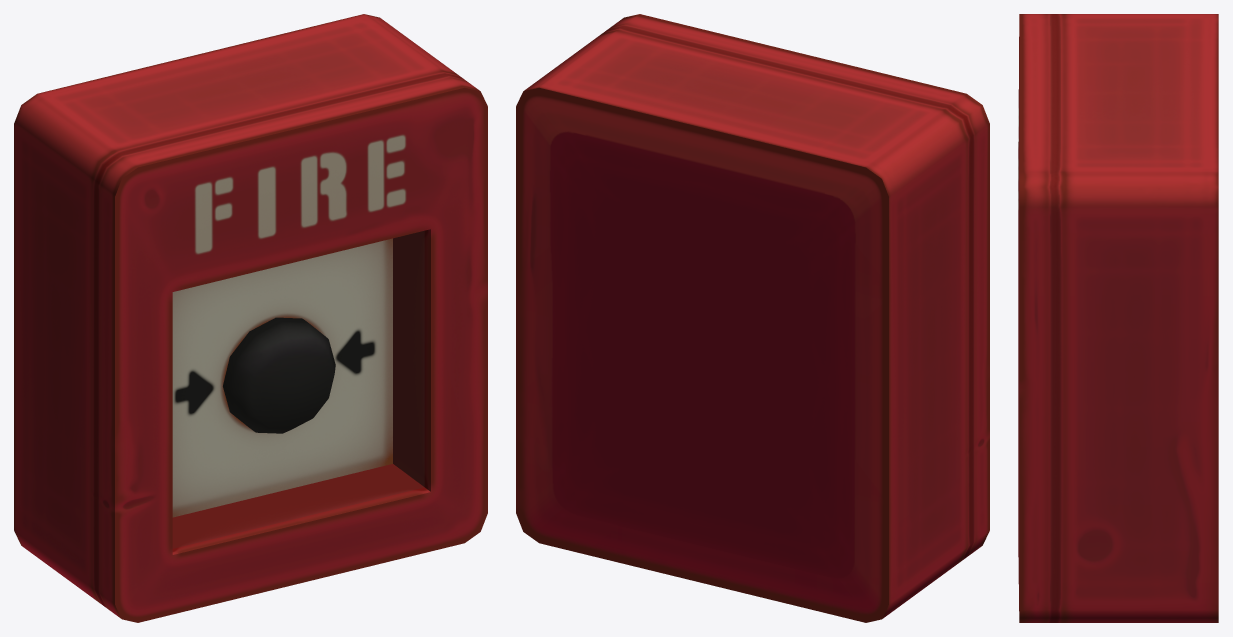
Rendered from alarm_point.glb.
The picture shows the model from 3 angles, left to right: view 1: azimuth 30°, elevation 25°; view 2: azimuth 150°, elevation 25°; view 3: azimuth 270°, elevation 25°; orthographic projection.
Parts seen in each view (by area): view 1: alarm_base_low, alarm_glass_low; view 2: alarm_base_low; view 3: alarm_base_low.
Boxes of the visible parts, left/top/right/bottom form: alarm_base_low: left=14, top=14, right=487, bottom=622; alarm_glass_low: left=173, top=231, right=423, bottom=547; alarm_base_low: left=516, top=14, right=989, bottom=622; alarm_base_low: left=1018, top=14, right=1218, bottom=622.
Bounding box in the file's own units: 0.1799 × 0.2099 × 0.0846.
1 material, 1 textured.
